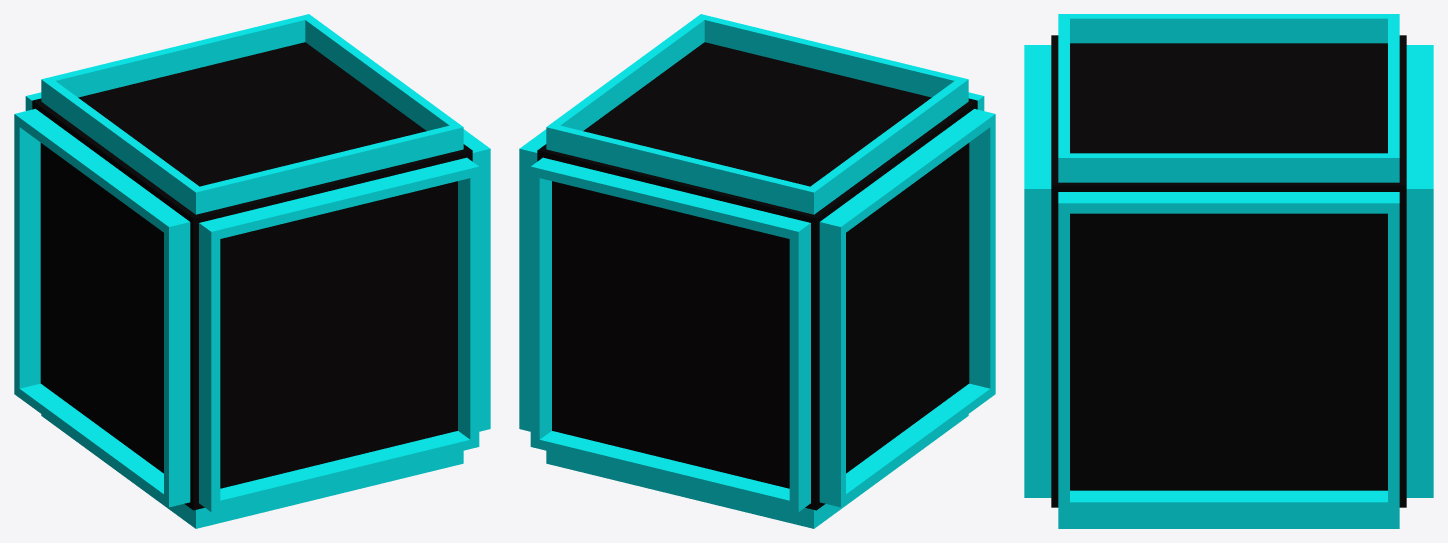
The model's file is UnlockBox.FBX.
3 views of the same model, side by side, from view 1: azimuth 30°, elevation 25°; view 2: azimuth 150°, elevation 25°; view 3: azimuth 270°, elevation 25° (orthographic). The views are drawn at different scales.
Visible parts, largest first — view 1: Box001, Box002; view 2: Box001, Box002; view 3: Box001, Box002.
Part boxes in pixels (box(x1,y1,x2,y2)): Box001: box(32, 42, 472, 510); Box002: box(14, 14, 490, 528); Box001: box(537, 42, 977, 510); Box002: box(519, 14, 995, 528); Box001: box(1051, 35, 1406, 507); Box002: box(1024, 14, 1433, 528).
Size of the model in its own units: 45.35 by 45.35 by 45.35.
